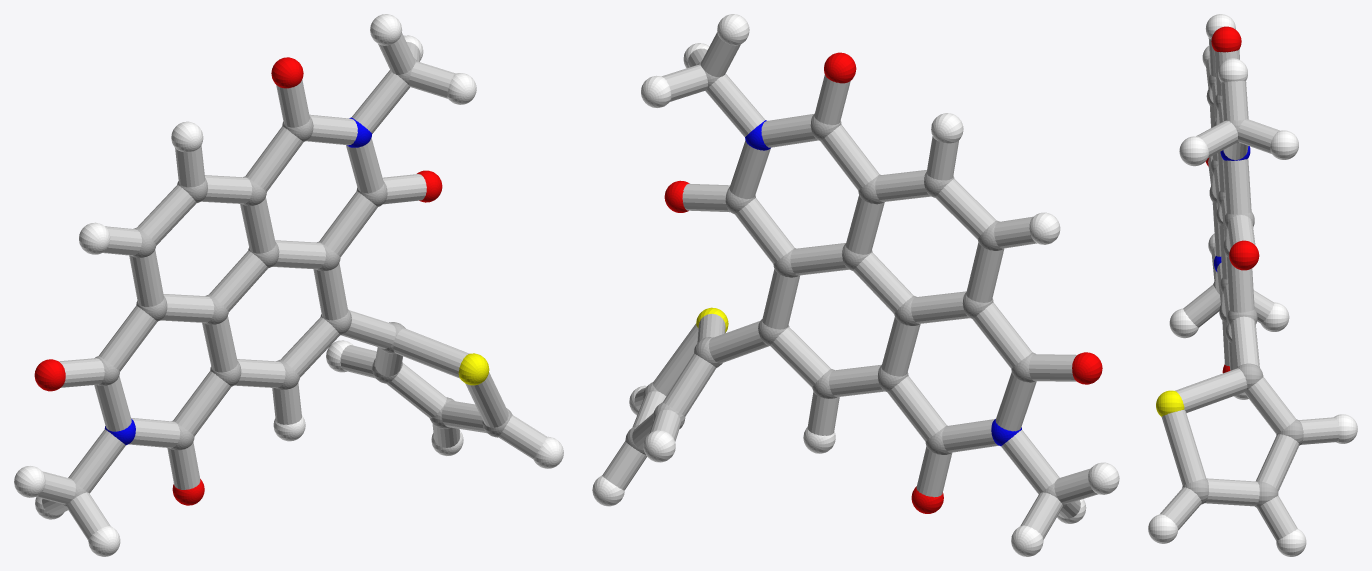
Rendered from Dimethyl_Naphthalene_Dicarboximide_Phi_25_Theta_250_Thiophene.glb.
3 renders of one model, left to right at view 1: azimuth 30°, elevation 25°; view 2: azimuth 150°, elevation 25°; view 3: azimuth 270°, elevation 25°, orthographic. The views are drawn at different scales.
Visible parts, largest first — view 1: grp14119, grp7241, grp1, grp12309, grp13757, grp11585; view 2: grp14119, grp7241, grp1, grp12309, grp11585; view 3: grp14119, grp7241, grp1, grp12309, grp13757.
Boxes of the visible parts, x1=… form: grp14119: x1=36, y1=33, x2=547, y2=540; grp7241: x1=14, y1=14, x2=563, y2=556; grp1: x1=62, y1=58, x2=512, y2=507; grp12309: x1=34, y1=57, x2=442, y2=505; grp13757: x1=458, y1=353, x2=489, y2=385; grp11585: x1=104, y1=117, x2=371, y2=445; grp14119: x1=602, y1=32, x2=1098, y2=539; grp7241: x1=592, y1=14, x2=1119, y2=556; grp1: x1=625, y1=61, x2=1066, y2=507; grp12309: x1=664, y1=52, x2=1102, y2=513; grp11585: x1=745, y1=120, x2=1021, y2=446; grp14119: x1=1160, y1=38, x2=1339, y2=540; grp7241: x1=1148, y1=14, x2=1357, y2=556; grp1: x1=1182, y1=74, x2=1303, y2=507; grp12309: x1=1205, y1=26, x2=1259, y2=373; grp13757: x1=1156, y1=390, x2=1184, y2=416.
Bounding box in the file's own units: 11.05 × 9.97 × 4.18.
